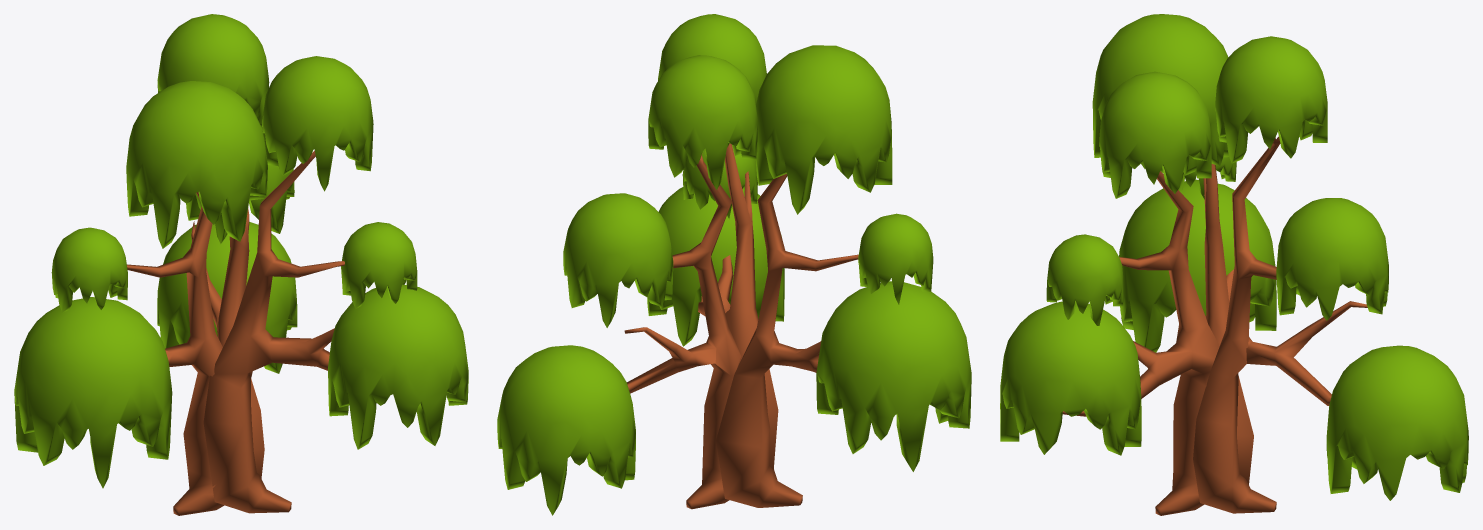
Rendered from Highway Control Ag╠åac╠ğ 3.fbx.
3 renders of one model, left to right at view 1: azimuth 30°, elevation 25°; view 2: azimuth 150°, elevation 25°; view 3: azimuth 270°, elevation 25°, orthographic. The views are drawn at different scales.
Visible parts, largest first — view 1: ağaç 3; view 2: ağaç 3; view 3: ağaç 3.
Boxes of the visible parts, x1=… form: ağaç 3: x1=14, y1=14, x2=468, y2=515; ağaç 3: x1=497, y1=14, x2=971, y2=515; ağaç 3: x1=1000, y1=14, x2=1468, y2=515.
Size of the model in its own units: 488 by 577 by 525.
Materials: 1 (1 with a texture image).
